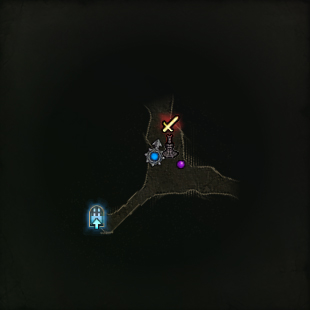PowerPylon: (162, 114, 181, 158)
